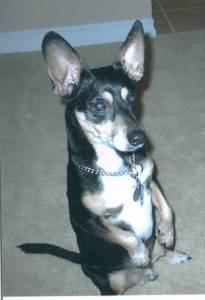dog-chihuahua: (40, 18, 145, 150)
